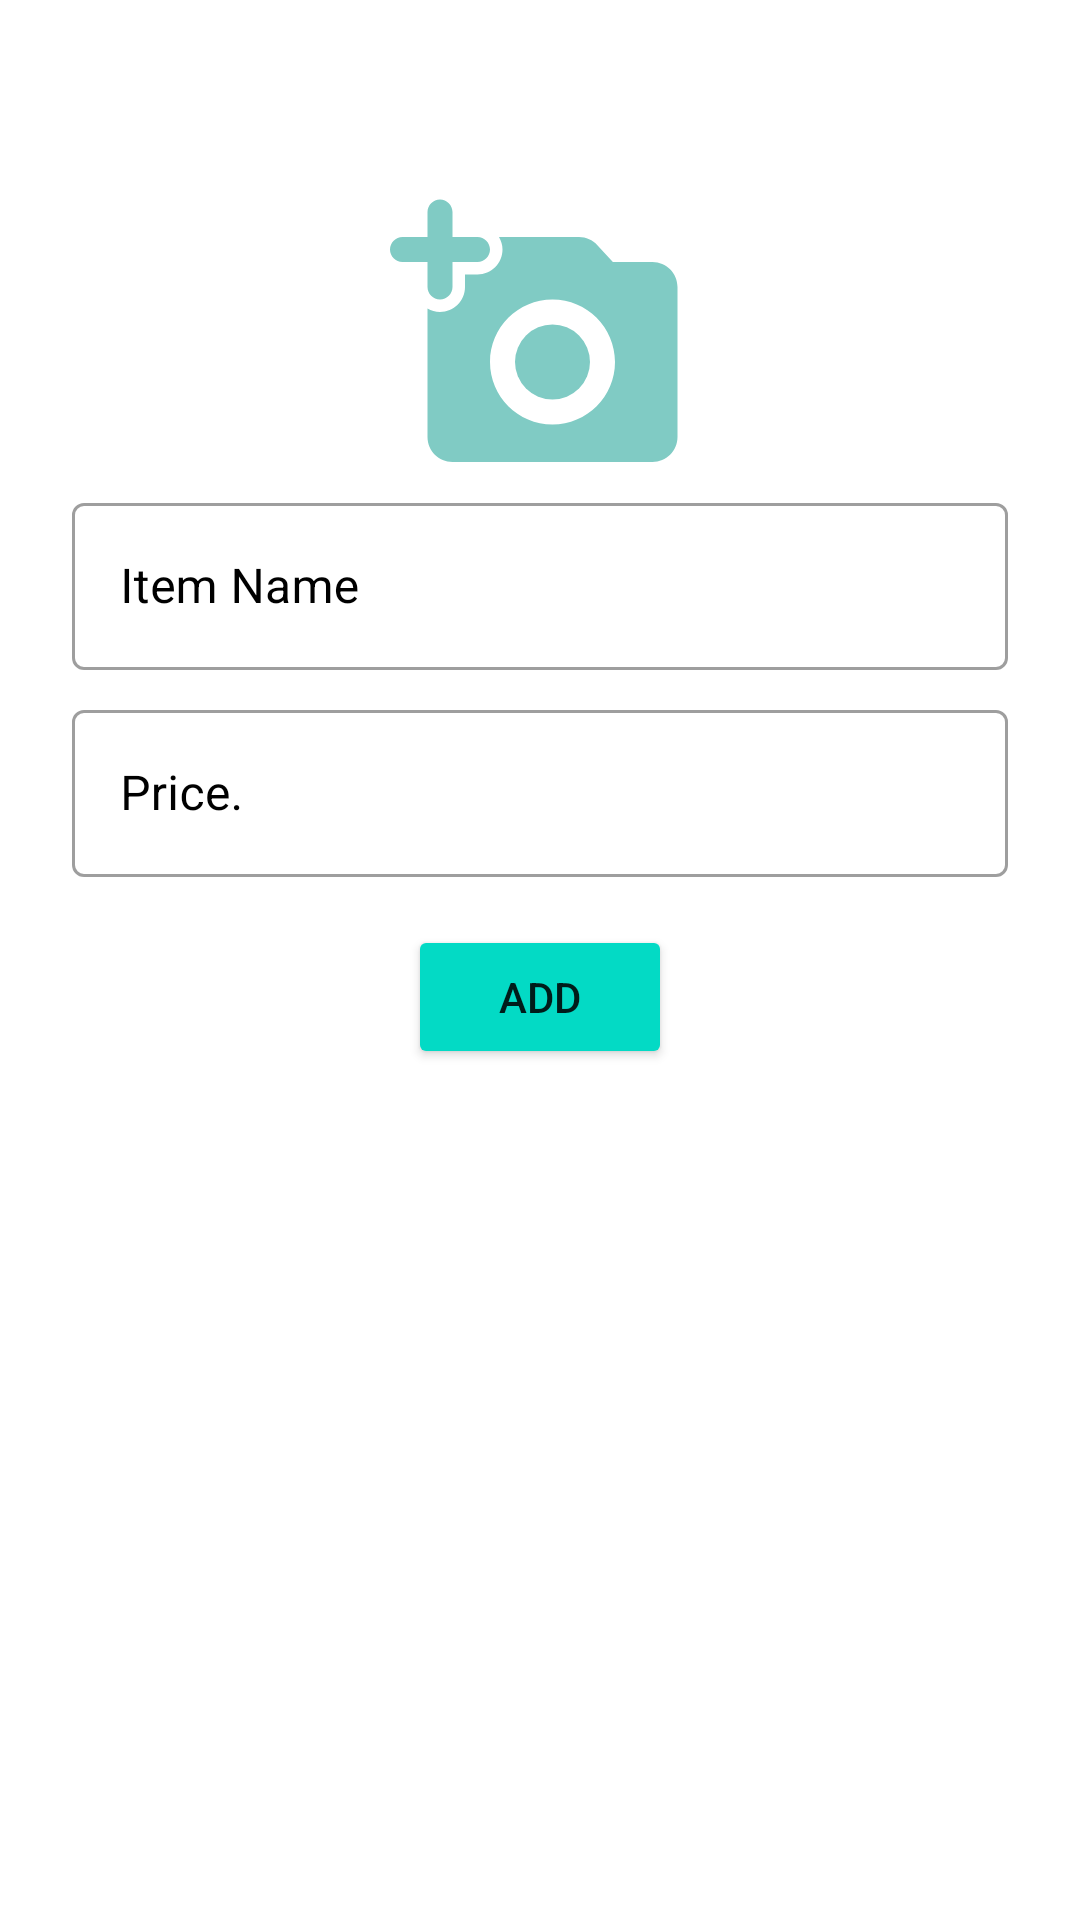

Icons on this 1080px x 1920px Android screen, each with the point to tap as [x,y]:
add photo: [534,330]
